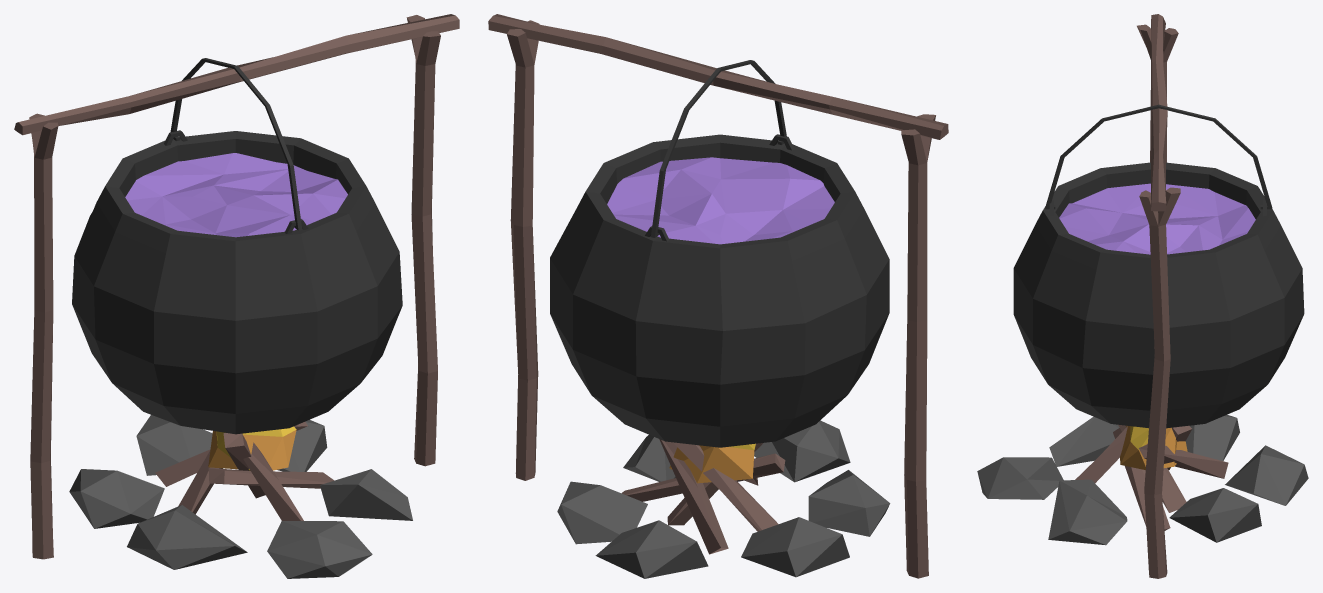
Rendered from pot_2_mat.fbx.
3 views of the same model, side by side, from view 1: azimuth 30°, elevation 25°; view 2: azimuth 150°, elevation 25°; view 3: azimuth 270°, elevation 25° (orthographic). The views are drawn at different scales.
Parts seen in each view (by area): view 1: pot_2_mat; view 2: pot_2_mat; view 3: pot_2_mat.
Boxes of the visible parts, box(x1,y1,x2,y2) form: pot_2_mat: box(14, 14, 459, 578); pot_2_mat: box(488, 14, 948, 578); pot_2_mat: box(977, 14, 1308, 578).
Bounding box in the file's own units: 288 × 281 × 214.
